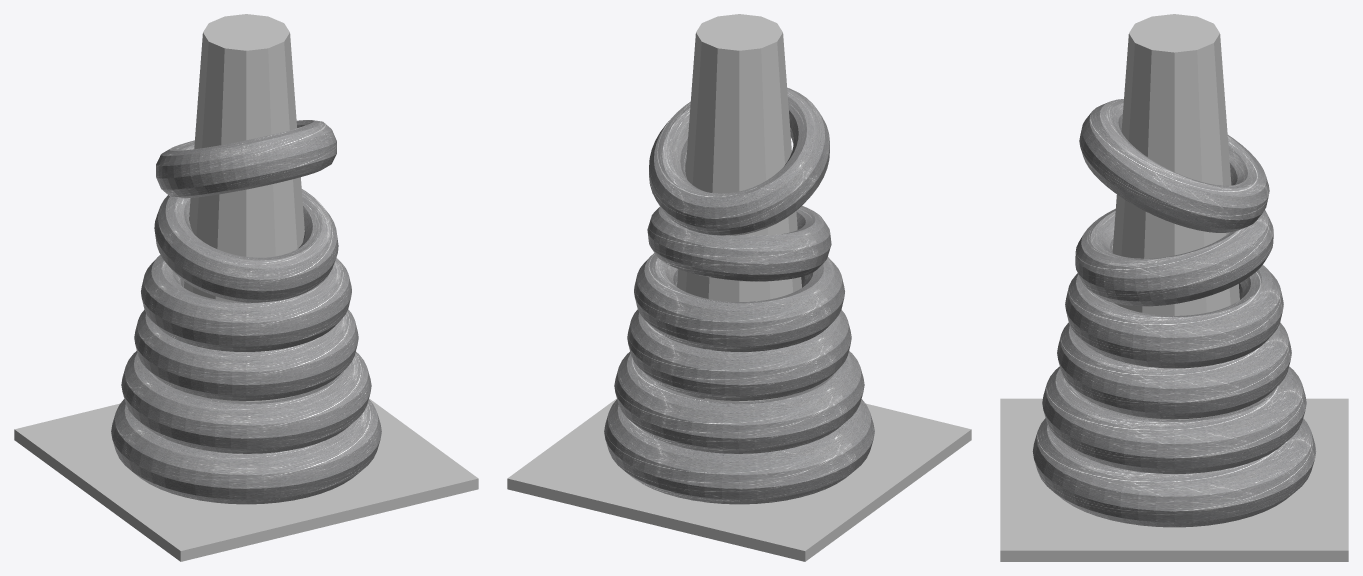
Rendered from Brinquedo1.fbx.
3 views of the same model, side by side, from view 1: azimuth 30°, elevation 25°; view 2: azimuth 150°, elevation 25°; view 3: azimuth 270°, elevation 25° (orthographic). The views are drawn at different scales.
Parts seen in each view (by area): view 1: Cylinder, Torus, Torus.001, Torus.003, Torus.002, Torus.004, Torus.005; view 2: Cylinder, Torus, Torus.001, Torus.005, Torus.003, Torus.002, Torus.004; view 3: Cylinder, Torus, Torus.001, Torus.003, Torus.002, Torus.005, Torus.004.
Part boxes in pixels (left/top/right/bottom): Cylinder: left=14, top=14, right=478, bottom=561; Torus: left=111, top=399, right=381, bottom=504; Torus.001: left=121, top=351, right=371, bottom=453; Torus.003: left=141, top=255, right=351, bottom=351; Torus.002: left=134, top=309, right=358, bottom=400; Torus.004: left=154, top=189, right=338, bottom=302; Torus.005: left=156, top=120, right=336, bottom=198; Cylinder: left=507, top=14, right=971, bottom=561; Torus: left=604, top=399, right=874, bottom=504; Torus.001: left=614, top=351, right=864, bottom=453; Torus.005: left=649, top=88, right=829, bottom=235; Torus.003: left=634, top=253, right=844, bottom=351; Torus.002: left=627, top=309, right=851, bottom=400; Torus.004: left=647, top=206, right=831, bottom=281; Cylinder: left=1000, top=14, right=1348, bottom=561; Torus: left=1032, top=418, right=1316, bottom=527; Torus.001: left=1042, top=366, right=1306, bottom=473; Torus.003: left=1065, top=265, right=1283, bottom=368; Torus.002: left=1057, top=322, right=1291, bottom=419; Torus.005: left=1079, top=99, right=1269, bottom=232; Torus.004: left=1075, top=209, right=1273, bottom=306.
Size of the model in its own units: 232 by 322 by 225.
